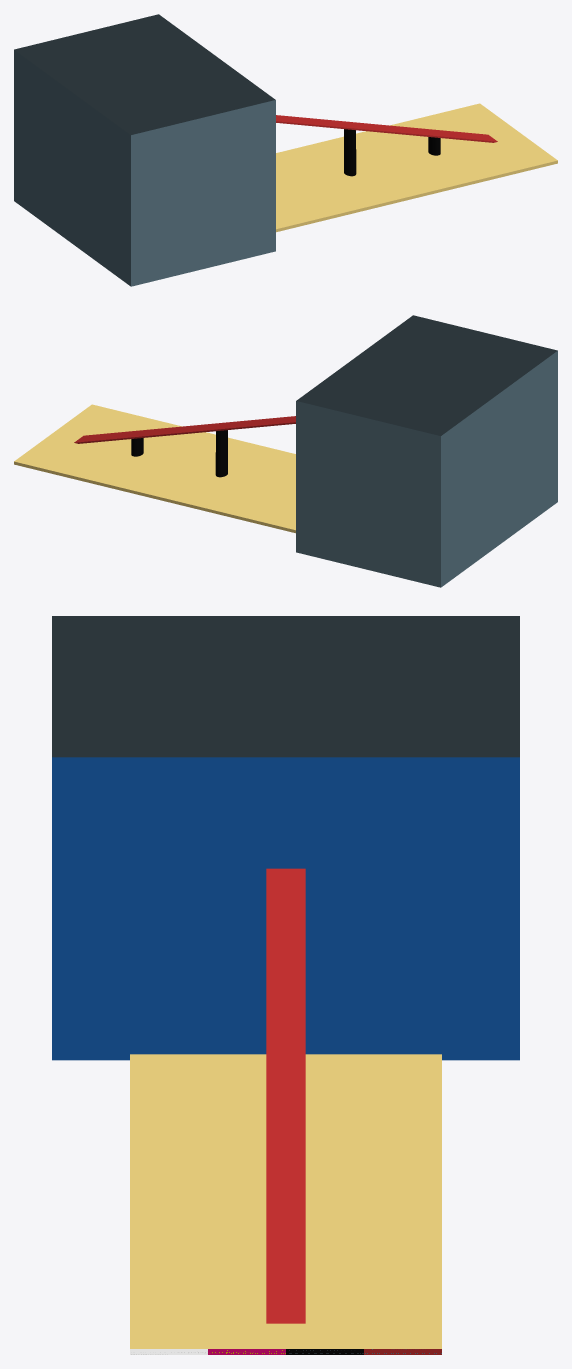
File: MineModel.fbx
The picture shows the model from 3 angles, top to bottom: view 1: azimuth 30°, elevation 25°; view 2: azimuth 150°, elevation 25°; view 3: azimuth 270°, elevation 25°; orthographic projection. The views are drawn at different scales.
Visible parts, largest first — view 1: MineModel; view 2: MineModel; view 3: MineModel.
Part boxes in pixels (x1,y1,x2,y2): MineModel: [14, 14, 557, 286]; MineModel: [14, 315, 557, 587]; MineModel: [52, 616, 519, 1354].
Bounding box in the file's own units: 1.85 × 0.6 × 0.84.
